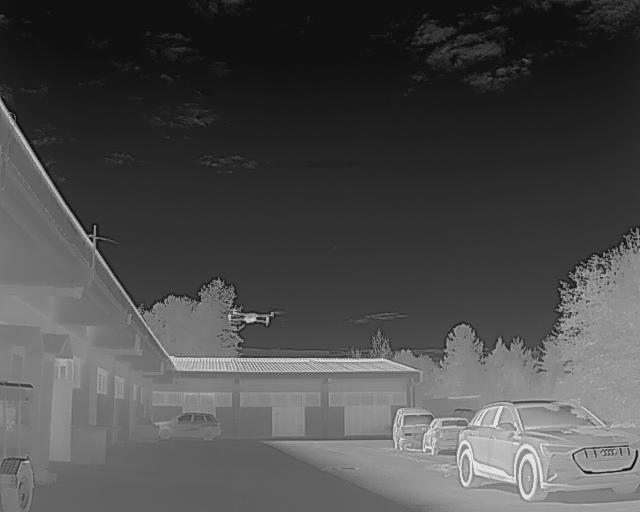drone: (212, 304, 282, 328)
